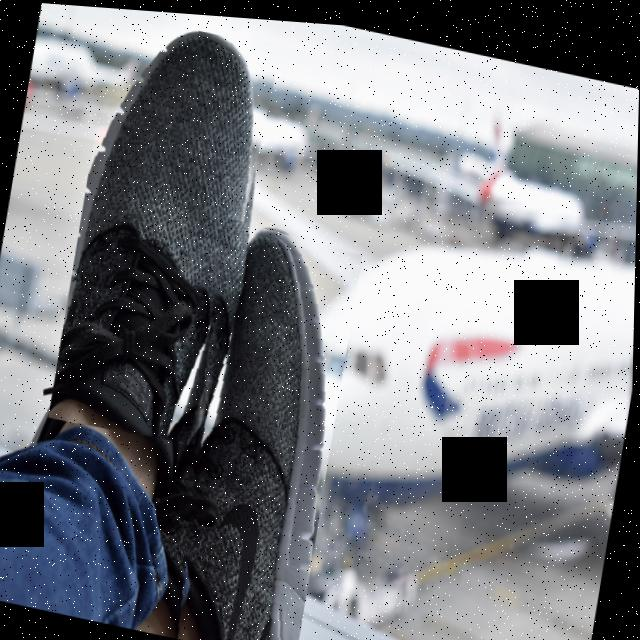shoe: (50, 7, 282, 454), (155, 209, 365, 640)
